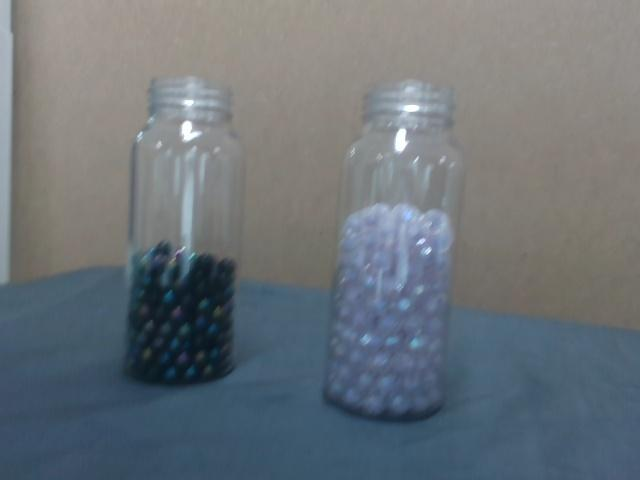black_bottle: (117, 239, 242, 393)
purple_bottle: (320, 196, 459, 422)
